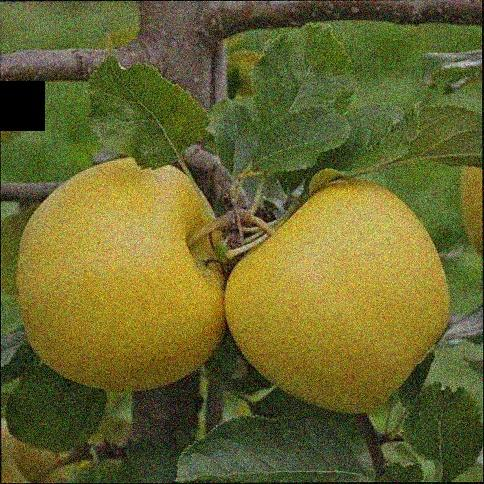green apple: (13, 157, 229, 407), (229, 173, 452, 413)
